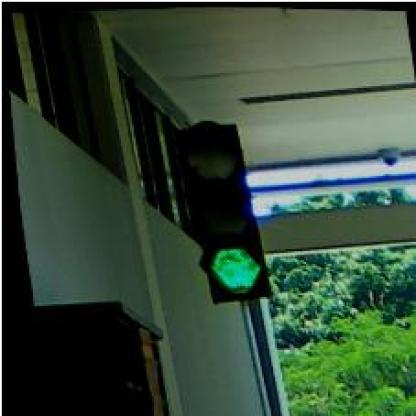green: (172, 116, 268, 298)
